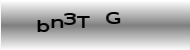3: (64, 11, 76, 24)
G: (105, 11, 121, 24)
T: (75, 14, 92, 28)
b: (36, 18, 50, 32)
n: (51, 18, 64, 28)
